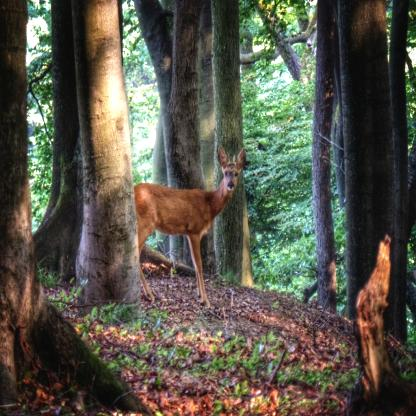Deer: (126, 143, 249, 312)
